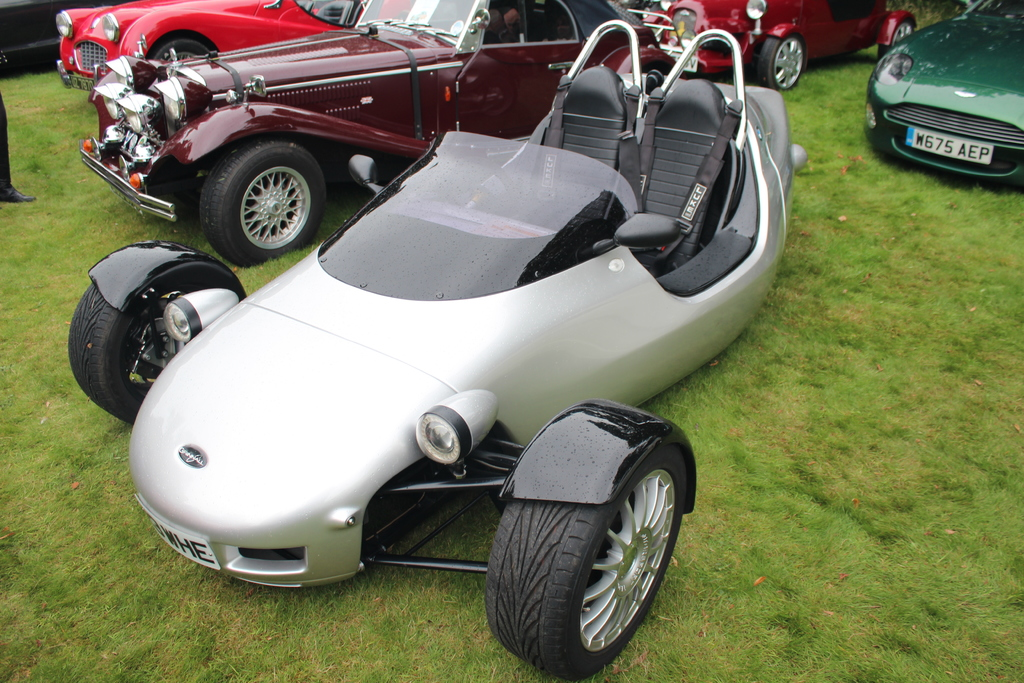mobil: (63, 56, 817, 680)
